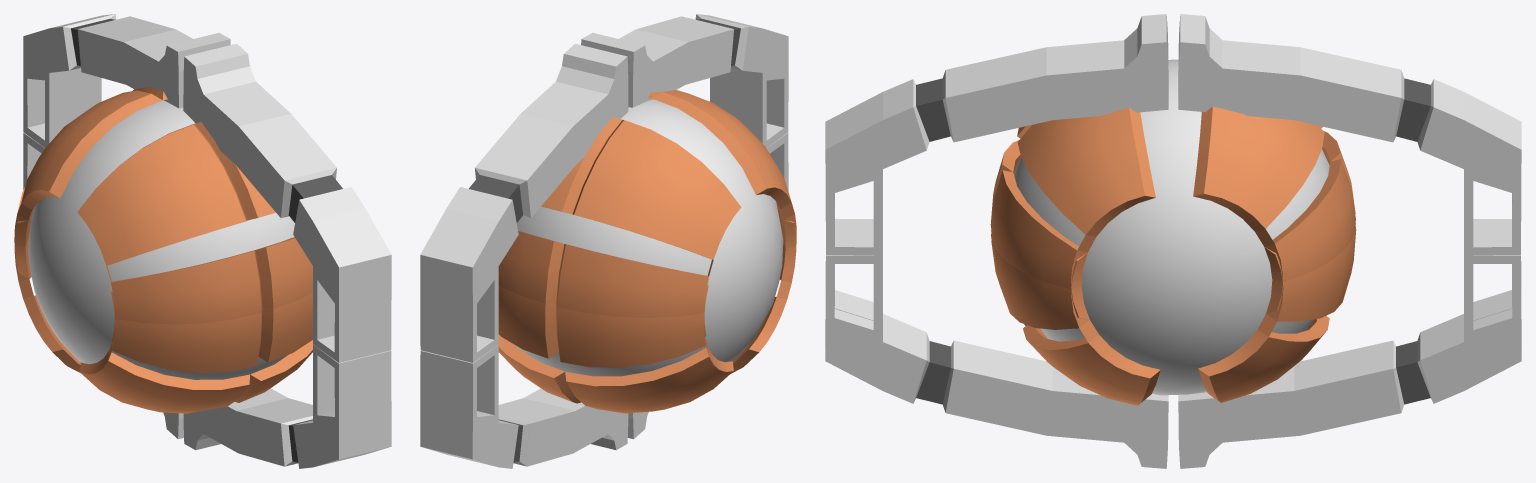
File: matrix.fbx
3 renders of one model, left to right at view 1: azimuth 30°, elevation 25°; view 2: azimuth 150°, elevation 25°; view 3: azimuth 270°, elevation 25°, orthographic. The views are drawn at different scales.
Visible parts, largest first — view 1: Plane, Sphere.001, Sphere; view 2: Plane, Sphere.001, Sphere; view 3: Plane, Sphere.001, Sphere.
Part boxes in pixels (box(x1,y1,x2,y2)): Plane: box(23, 14, 391, 468); Sphere.001: box(14, 87, 312, 413); Sphere: box(28, 100, 294, 379); Plane: box(420, 14, 788, 468); Sphere.001: box(498, 90, 796, 413); Sphere: box(514, 99, 783, 376); Plane: box(825, 14, 1521, 468); Sphere.001: box(990, 106, 1356, 405); Sphere: box(1014, 59, 1329, 395).
Size of the model in its own units: 241 by 338 by 500.
